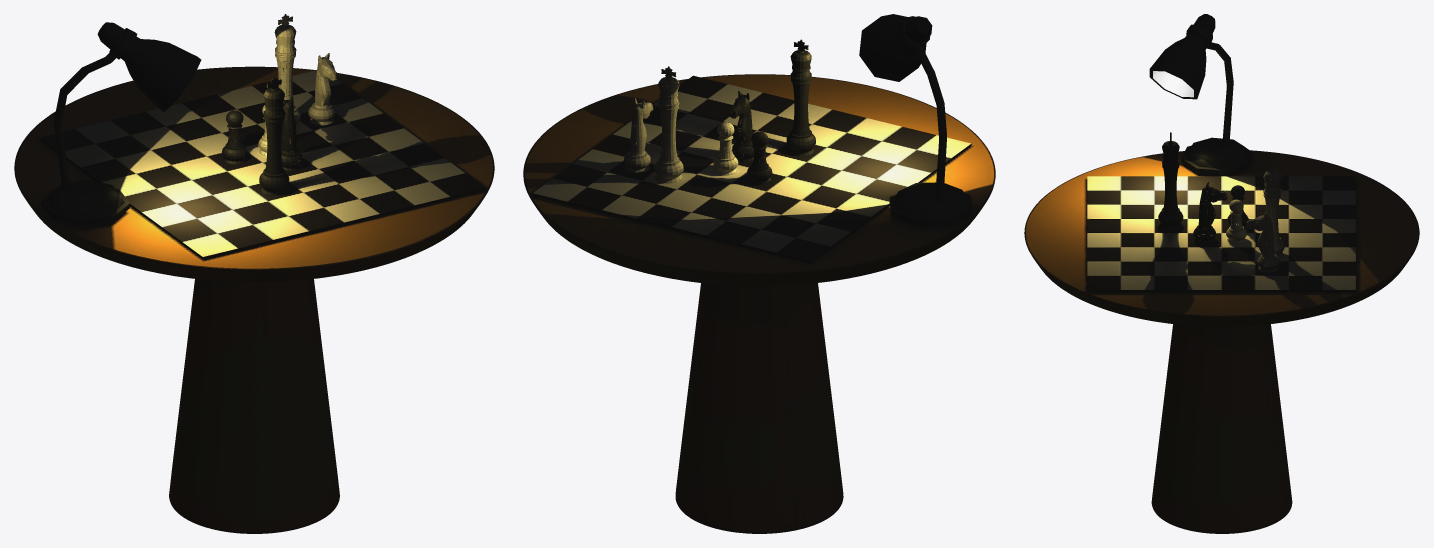
File: chess-v2.glb
3 renders of one model, left to right at view 1: azimuth 30°, elevation 25°; view 2: azimuth 150°, elevation 25°; view 3: azimuth 270°, elevation 25°, orthographic. The views are drawn at different scales.
Parts seen in each view (by area): view 1: Siena Table_Baked; view 2: Siena Table_Baked; view 3: Siena Table_Baked.
Boxes of the visible parts, bbox=[...] form: Siena Table_Baked: bbox=[14, 14, 494, 533]; Siena Table_Baked: bbox=[523, 14, 995, 533]; Siena Table_Baked: bbox=[1024, 14, 1419, 533].
Size of the model in its own units: 1.36 by 1.62 by 1.35.
Materials: 1 (1 with a texture image).
